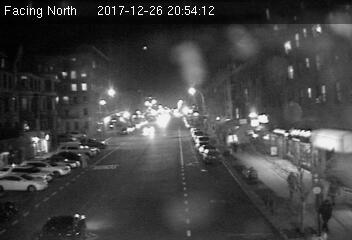car: (202, 148, 222, 164), (142, 125, 155, 133)
